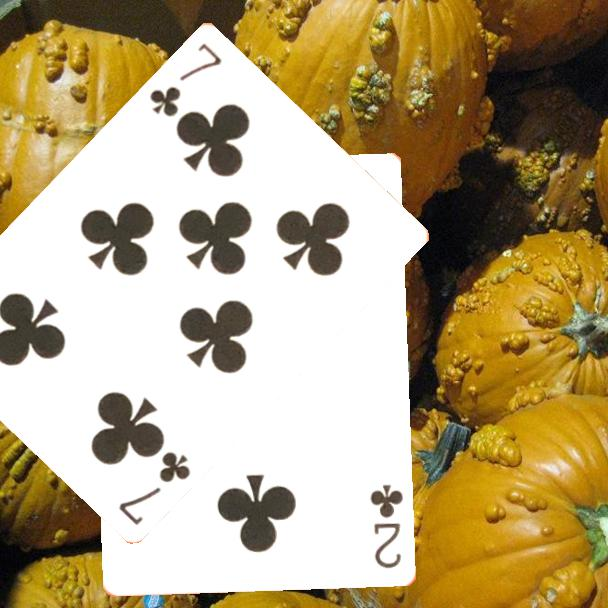c02: (367, 481, 407, 572)
c07: (146, 39, 225, 120), (115, 447, 194, 528)
